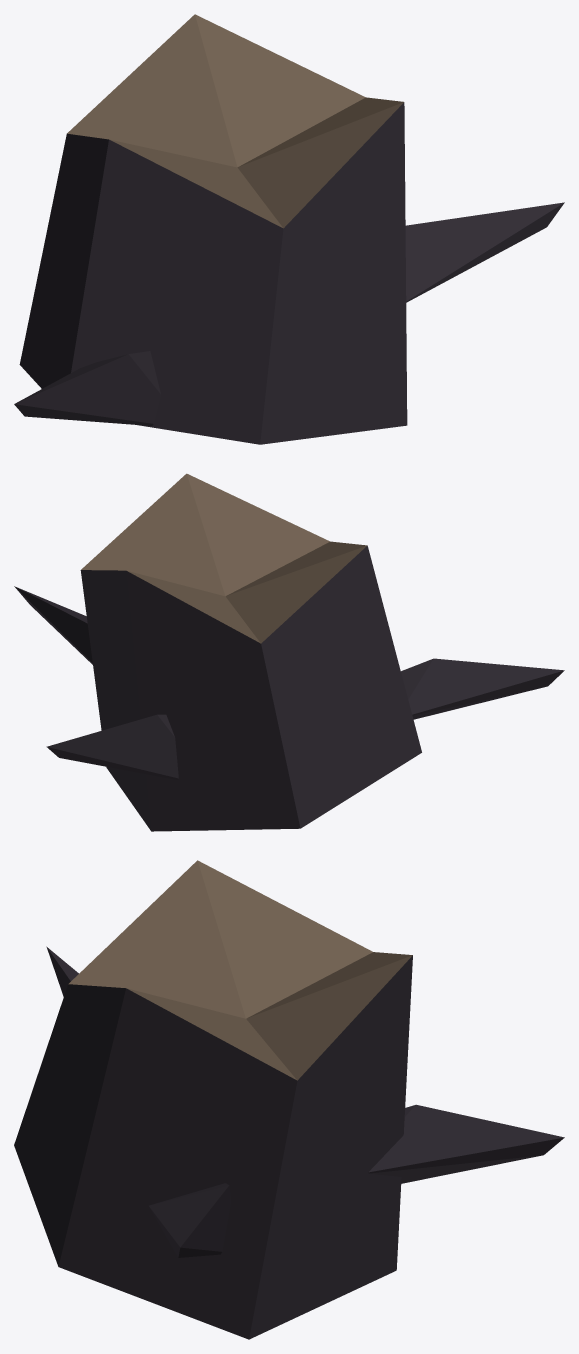
File: toco_2.glb
3 views of the same model, one above another, from view 1: azimuth 30°, elevation 25°; view 2: azimuth 150°, elevation 25°; view 3: azimuth 270°, elevation 25° (orthographic). The views are drawn at different scales.
Visible parts, largest first — view 1: toco_2; view 2: toco_2; view 3: toco_2.
Part boxes in pixels (box(x1,y1,x2,y2)): toco_2: box(14, 14, 564, 444); toco_2: box(14, 473, 564, 831); toco_2: box(14, 860, 564, 1339).
Size of the model in its own units: 0.4681 by 0.2389 by 0.3588.
